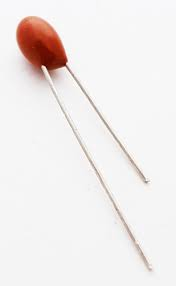ceramic capacitor: (3, 11, 96, 101)
